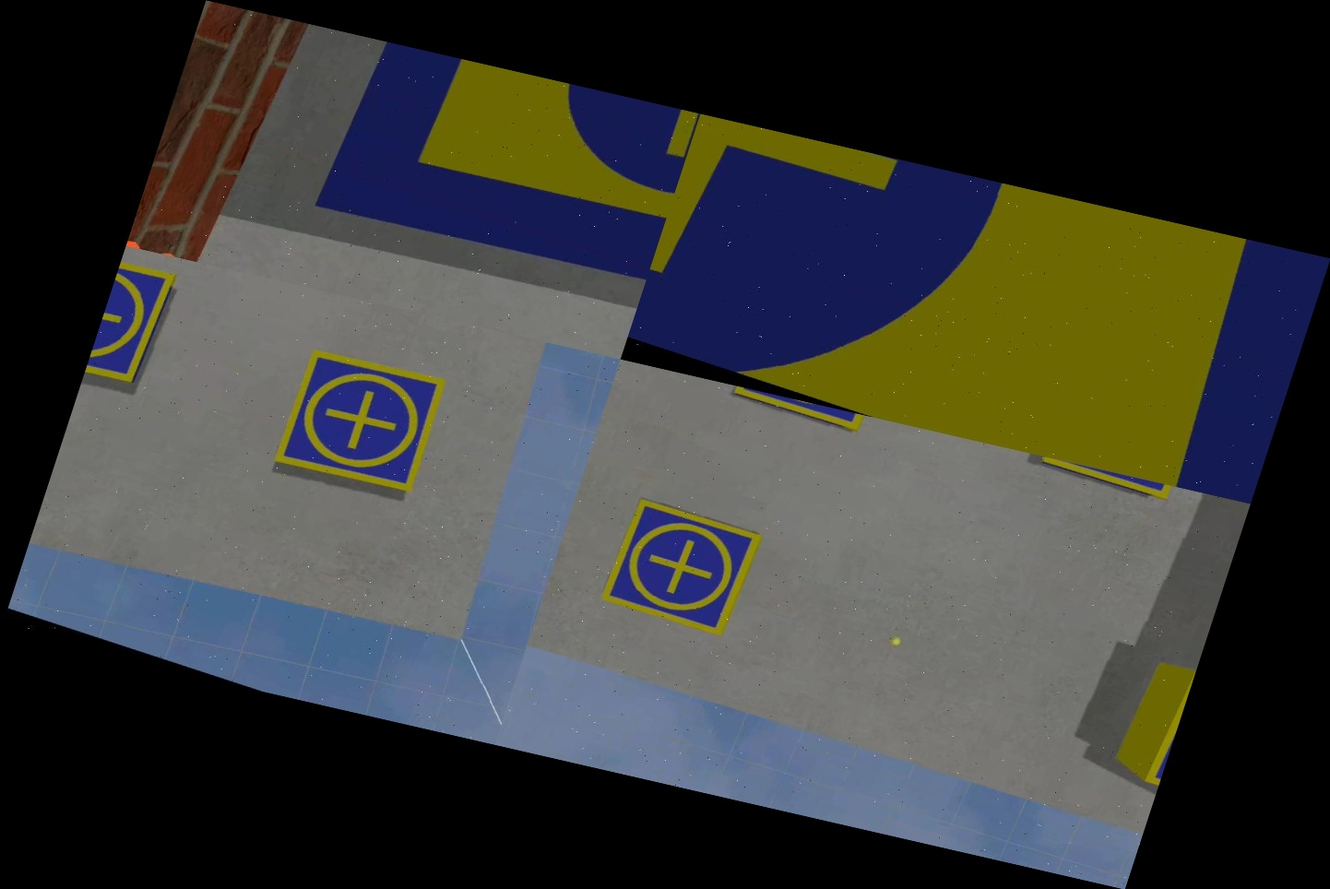large_base: (620, 113, 1329, 504), (284, 35, 700, 340)
small_base: (255, 333, 466, 513), (588, 492, 773, 644), (79, 250, 188, 402), (725, 385, 872, 437), (1036, 456, 1178, 503)
